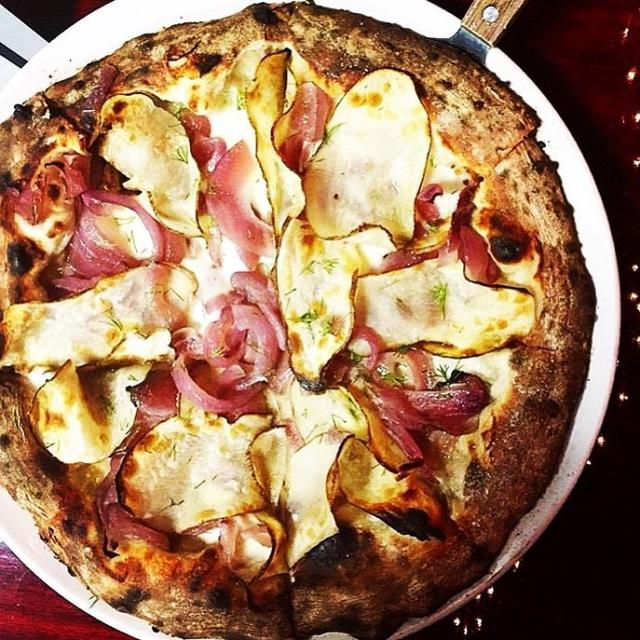pizza: (0, 4, 595, 640)
